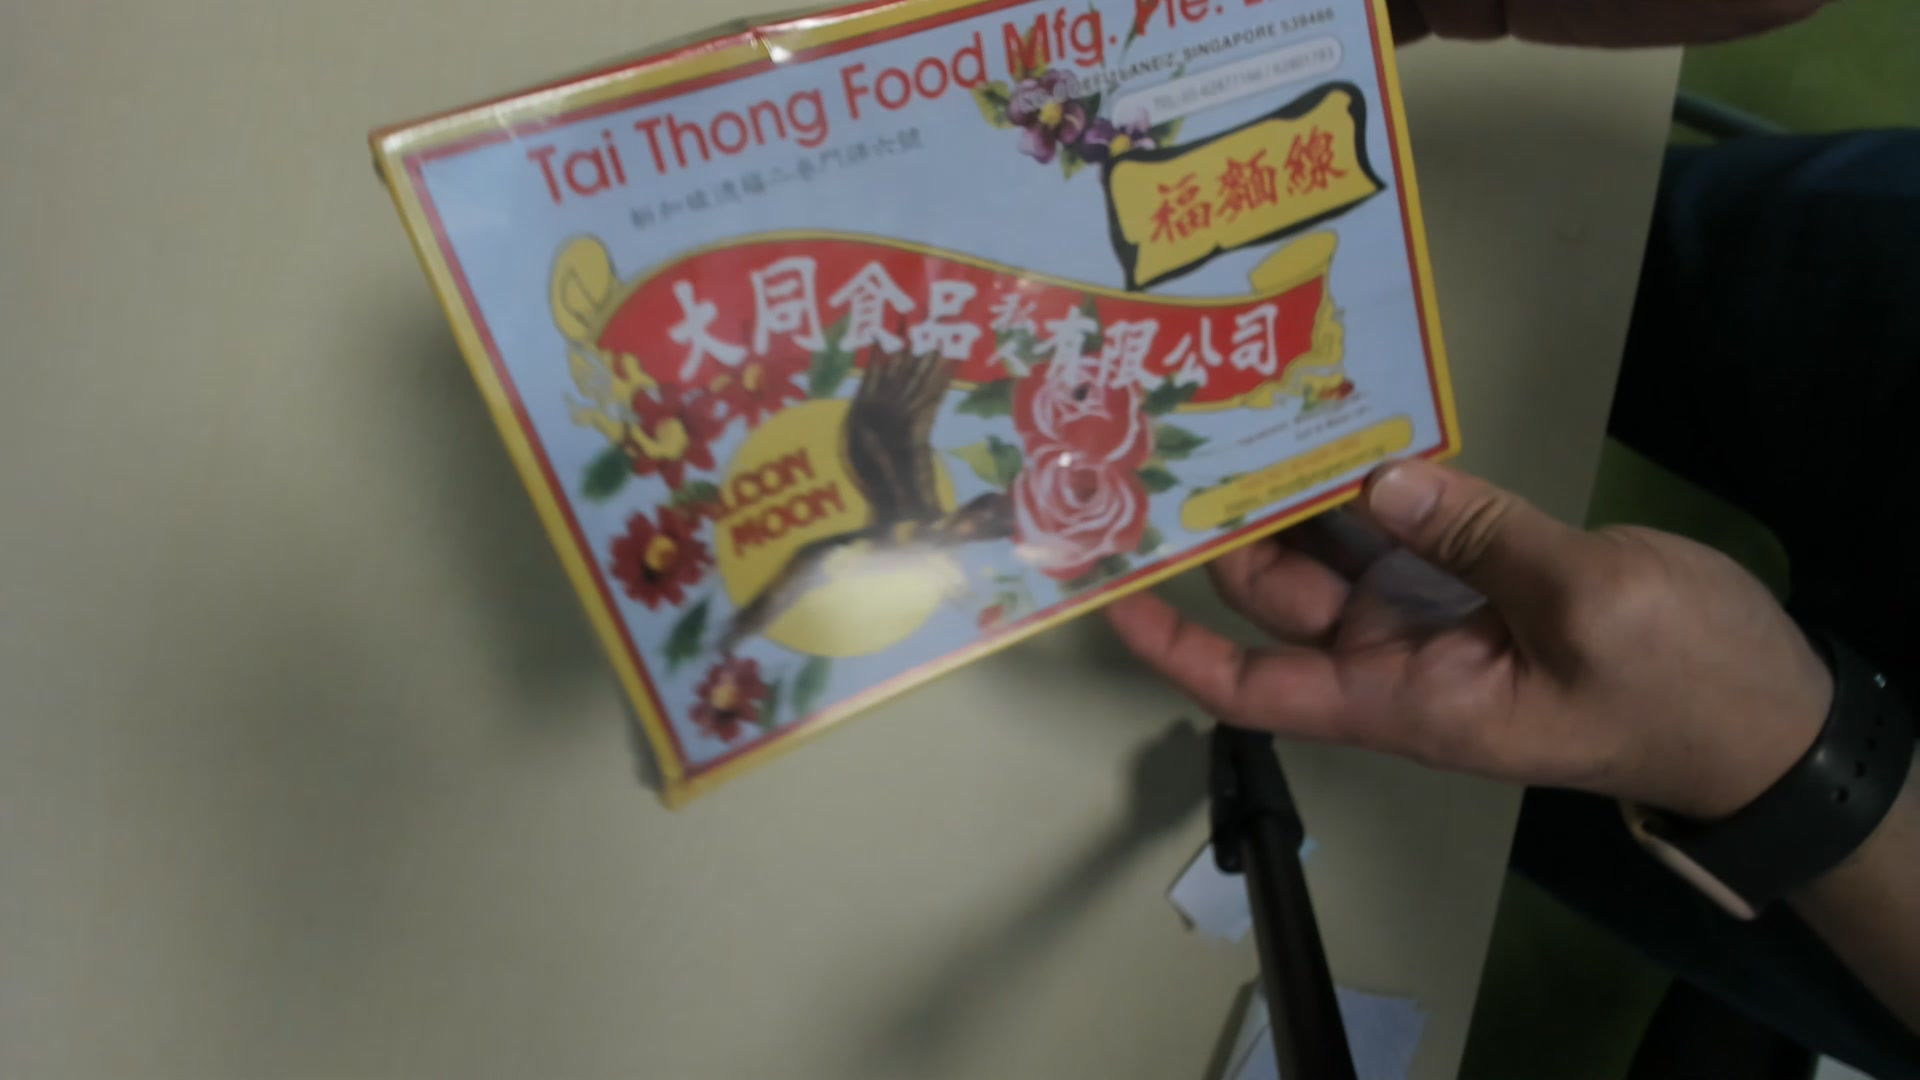BeeHoonVermicelli_0-99g_NonHalal_NonHealthy: (369, 1, 1476, 814)
